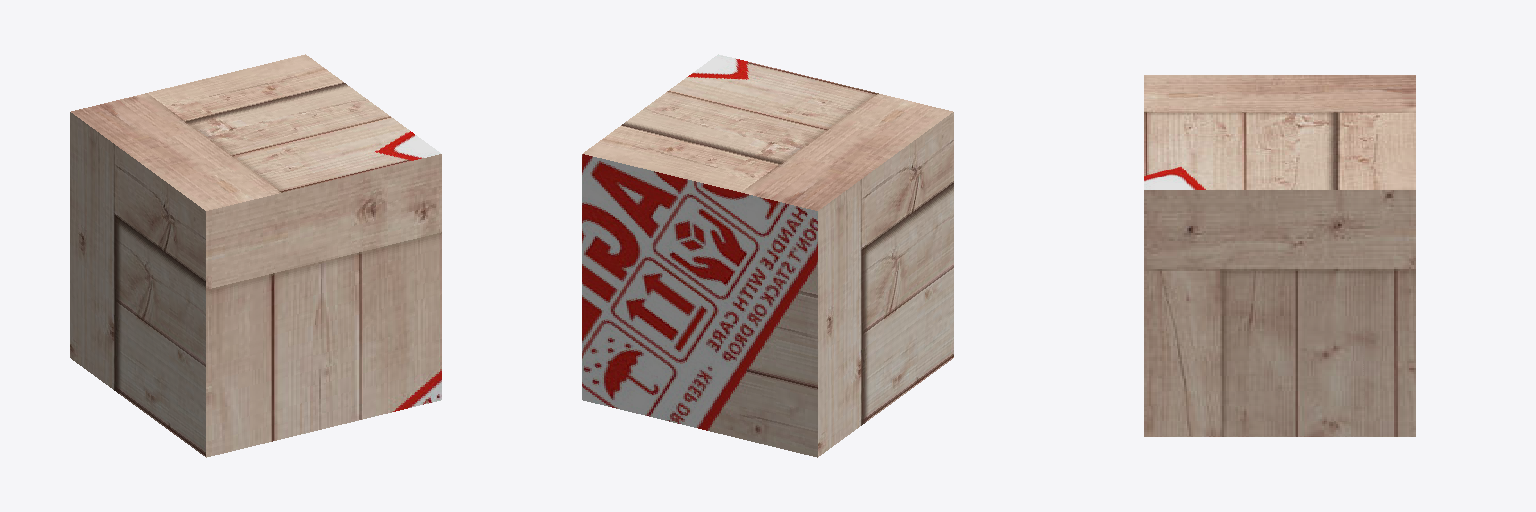
3 renders of one model, left to right at view 1: azimuth 30°, elevation 25°; view 2: azimuth 150°, elevation 25°; view 3: azimuth 270°, elevation 25°, orthographic.
Visible parts, largest first — view 1: Cube; view 2: Cube; view 3: Cube.
Boxes of the visible parts, <box> form: Cube: <box>70,54,441,457</box>; Cube: <box>582,54,953,457</box>; Cube: <box>1144,75,1415,436</box>.
Bounding box in the file's own units: 2 × 2 × 2.
Materials: 1 (1 with a texture image).